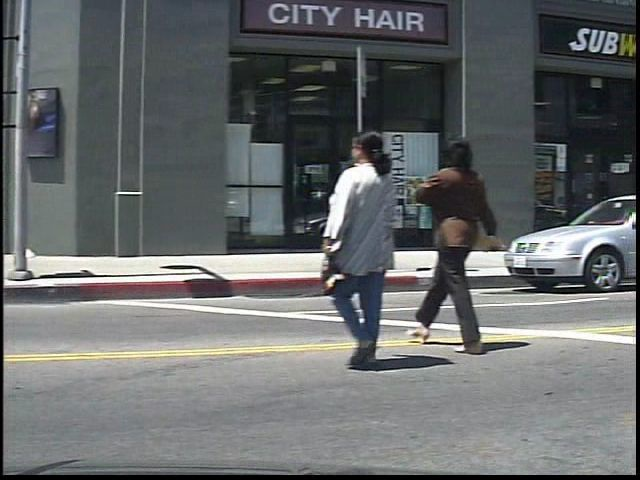person: (419, 125, 519, 356), (330, 122, 418, 372)
